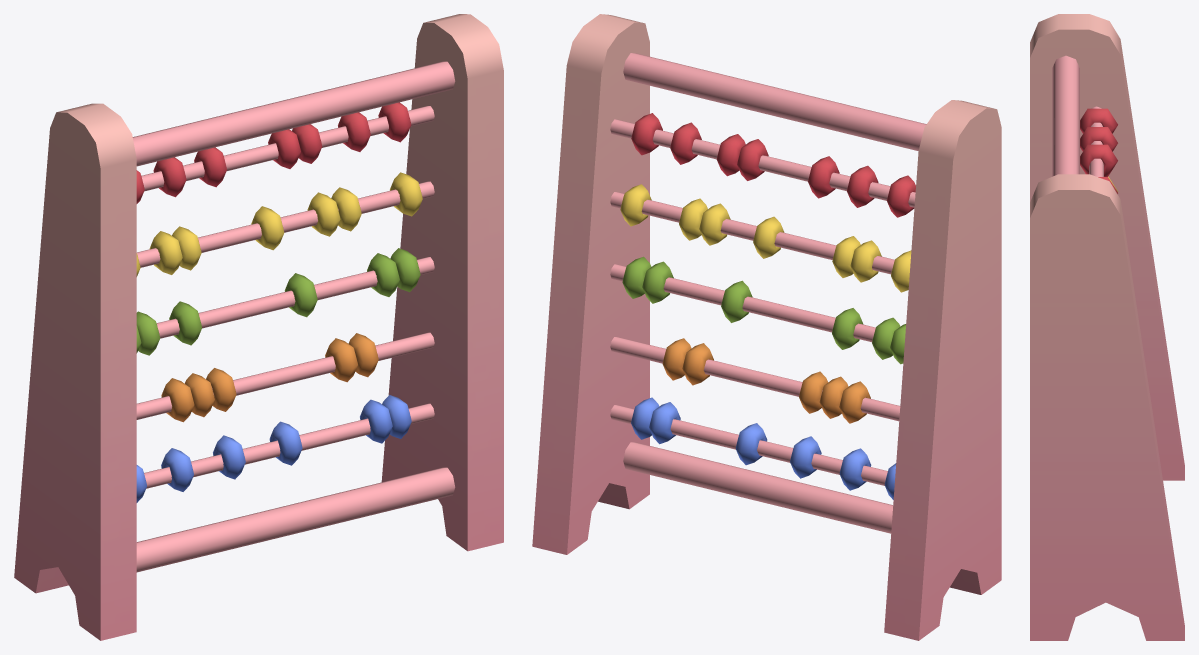
Rendered from SM_Standing_Abacus_03.fbx.
The picture shows the model from 3 angles, left to right: view 1: azimuth 30°, elevation 25°; view 2: azimuth 150°, elevation 25°; view 3: azimuth 270°, elevation 25°; orthographic projection. The views are drawn at different scales.
Parts seen in each view (by area): view 1: SM_Standing_Abacus_03; view 2: SM_Standing_Abacus_03; view 3: SM_Standing_Abacus_03.
Boxes of the visible parts, x1,y1,x2,y2 form: SM_Standing_Abacus_03: (14,14,503,640); SM_Standing_Abacus_03: (532,14,1001,640); SM_Standing_Abacus_03: (1030,14,1184,640).
Size of the model in its own units: 69.5 by 83 by 25.81.
